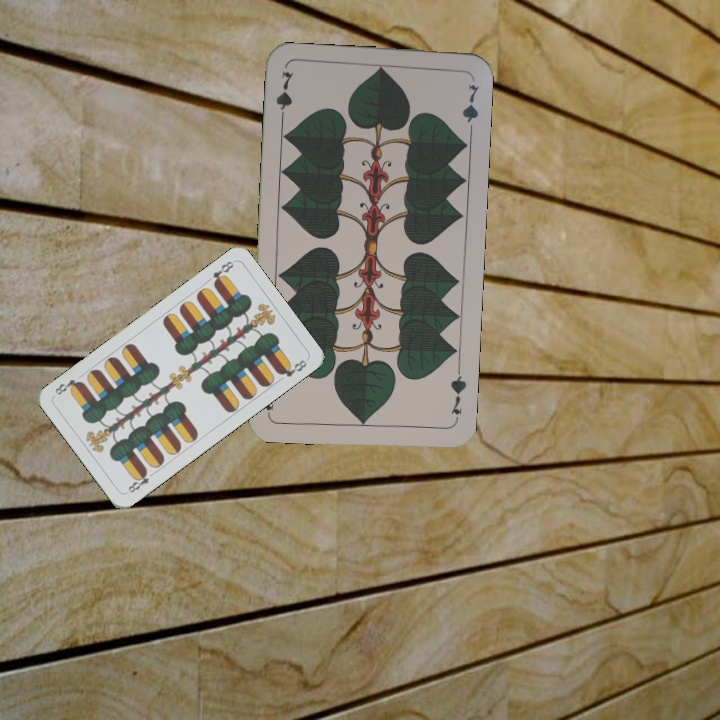E8: (124, 466, 158, 495), (208, 257, 236, 289)
G7: (271, 67, 296, 126), (446, 366, 469, 425)
